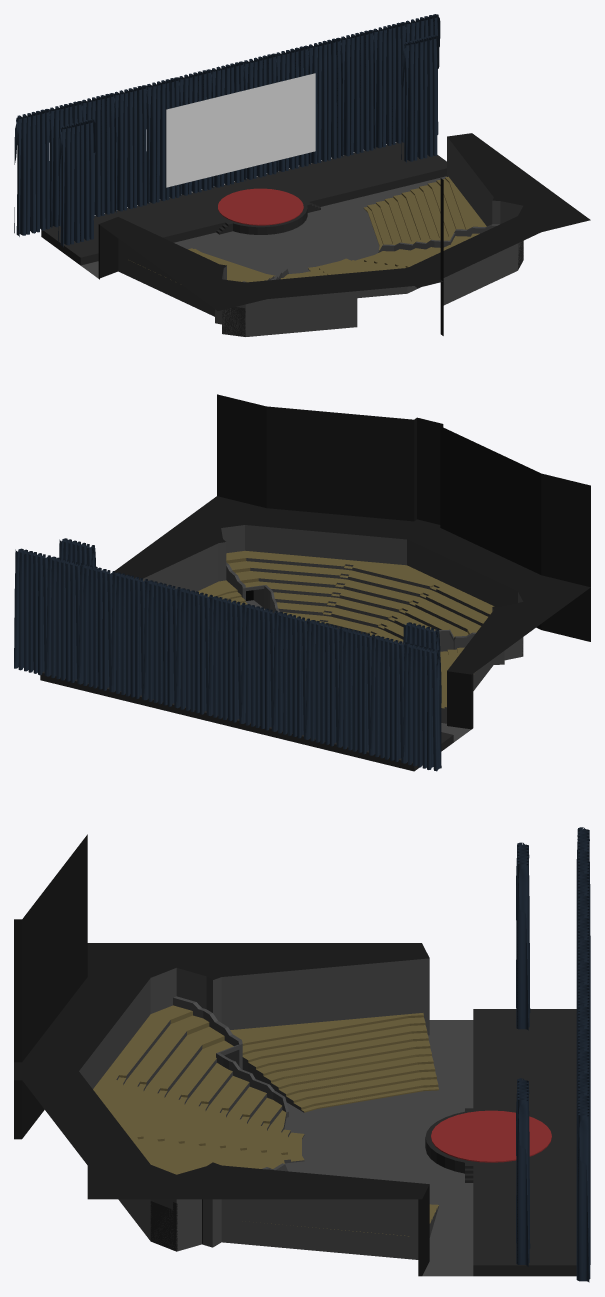
File: Stage_Medium.fbx
The picture shows the model from 3 angles, top to bottom: view 1: azimuth 30°, elevation 25°; view 2: azimuth 150°, elevation 25°; view 3: azimuth 270°, elevation 25°; orthographic projection. The views are drawn at different scales.
Visible parts, largest first — view 1: Base, Screen, Curtain_Static.013, Curtain_Static.011, Curtain_Static.012, Curtain_Static.006, Curtain_Static.005, Curtain_Static.010, Curtain_Static.003, Curtain_Static.008, Curtain_Static.007, Curtain_Static.014 (+5 smaller); view 2: Base, Curtain_Static.012, Curtain_Static.008, Curtain_Static.005, Curtain_Static.014, Curtain_Static.003, Curtain_Static.002, Curtain_Static.000, Curtain_Static.006, Curtain_Static.009, Curtain_Static.007, Curtain_Static.001 (+4 smaller); view 3: Base, Curtain_Static.009, Curtain_Static.011, Curtain_Static.013.
Part boxes in pixels (box(x1,y1,x2,y2)): Base: box(41, 133, 590, 336); Screen: box(166, 73, 315, 187); Curtain_Static.013: box(401, 35, 439, 162); Curtain_Static.011: box(58, 119, 95, 247); Curtain_Static.012: box(14, 109, 51, 236); Curtain_Static.006: box(113, 85, 148, 212); Curtain_Static.005: box(340, 30, 374, 157); Curtain_Static.010: box(372, 22, 406, 149); Curtain_Static.003: box(307, 37, 342, 165); Curtain_Static.008: box(146, 77, 180, 204); Curtain_Static.007: box(81, 93, 115, 217); Curtain_Static.014: box(49, 101, 83, 228); Base: box(40, 394, 590, 771); Curtain_Static.012: box(403, 643, 441, 771); Curtain_Static.008: box(273, 612, 310, 739); Curtain_Static.005: box(78, 564, 115, 691); Curtain_Static.014: box(370, 635, 407, 763); Curtain_Static.003: box(111, 572, 148, 699); Curtain_Static.002: box(176, 588, 212, 715); Curtain_Static.000: box(208, 596, 245, 723); Curtain_Static.006: box(305, 620, 342, 747); Curtain_Static.009: box(14, 548, 50, 676); Curtain_Static.007: box(338, 628, 374, 755); Curtain_Static.001: box(241, 604, 277, 731); Base: box(14, 834, 576, 1276); Curtain_Static.009: box(576, 1093, 590, 1282); Curtain_Static.011: box(516, 842, 530, 1030); Curtain_Static.013: box(516, 1078, 530, 1266).
Size of the model in its own units: 5655 by 2000 by 4758.
